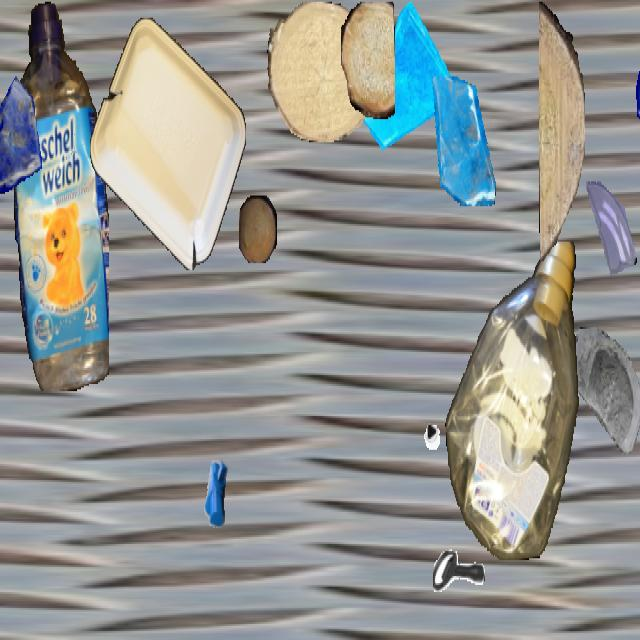glass: (364, 2, 454, 162), (573, 323, 640, 473), (426, 76, 498, 205), (581, 180, 639, 282), (0, 75, 42, 192), (627, 2, 640, 137)
metal: (37, 174, 97, 281), (387, 354, 445, 457), (186, 438, 244, 540), (433, 528, 485, 620)
plastic: (445, 242, 581, 558), (90, 18, 246, 270), (14, 2, 108, 389)
wood: (267, 2, 373, 140), (539, 2, 585, 261), (341, 2, 395, 119), (239, 196, 277, 263)
